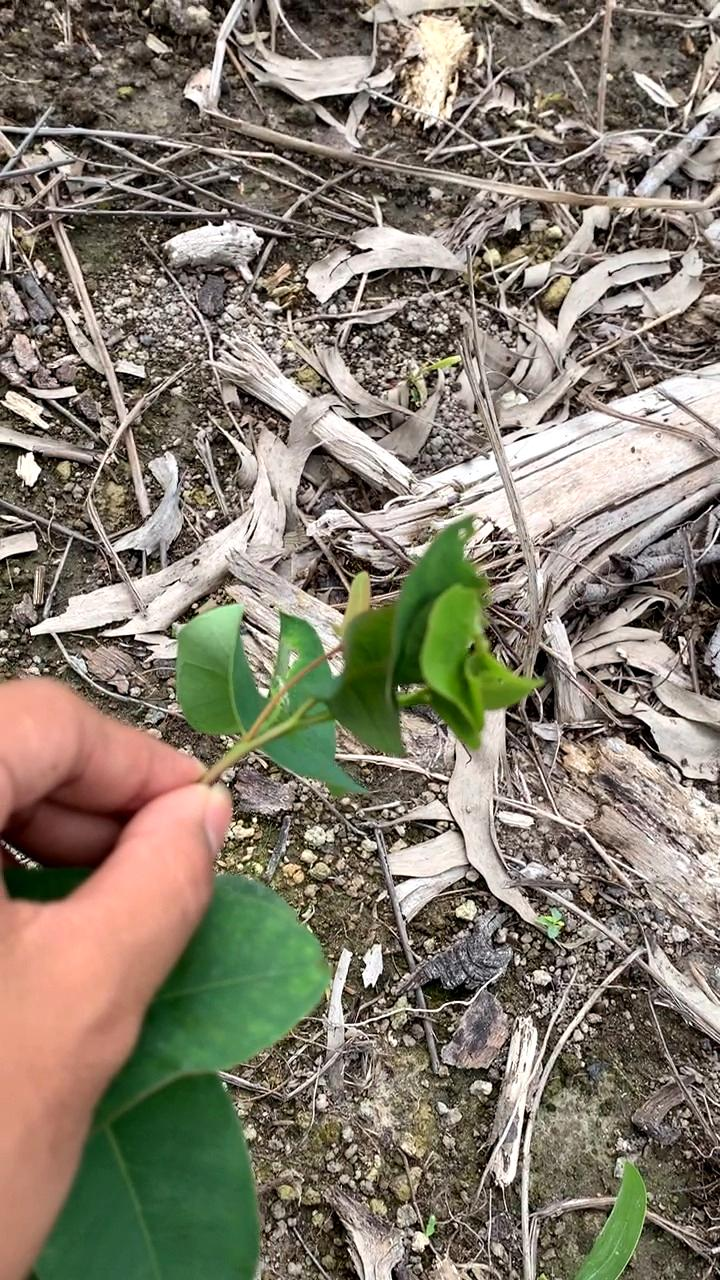Leaf Roller - Leaf: (340, 523, 527, 755)
